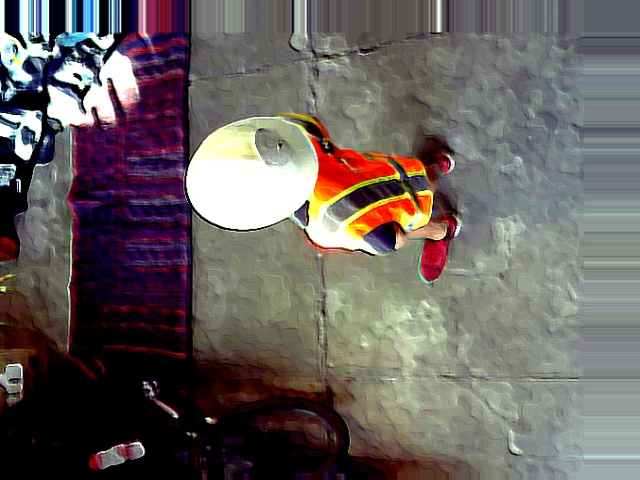two: (252, 127, 289, 169)
